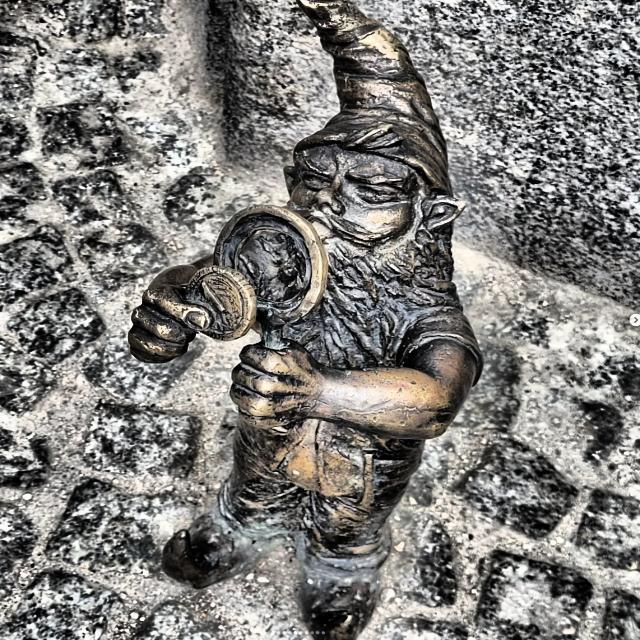Kolekcjoner: (128, 0, 483, 639)
